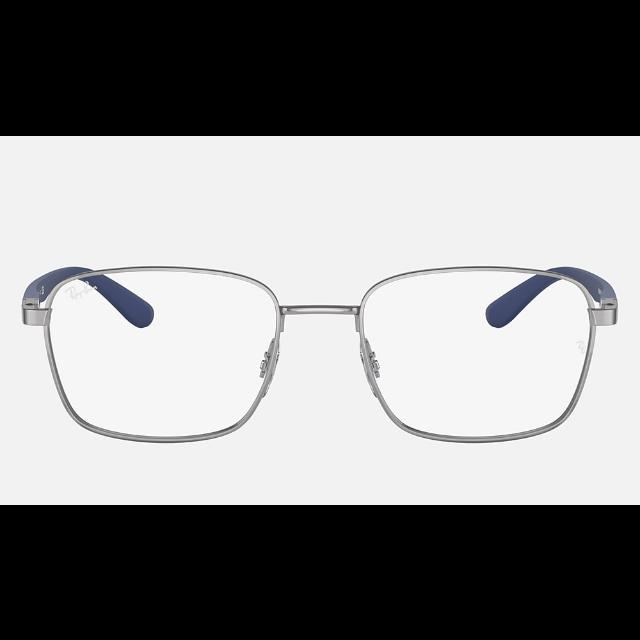glasses: (25, 262, 620, 442)
